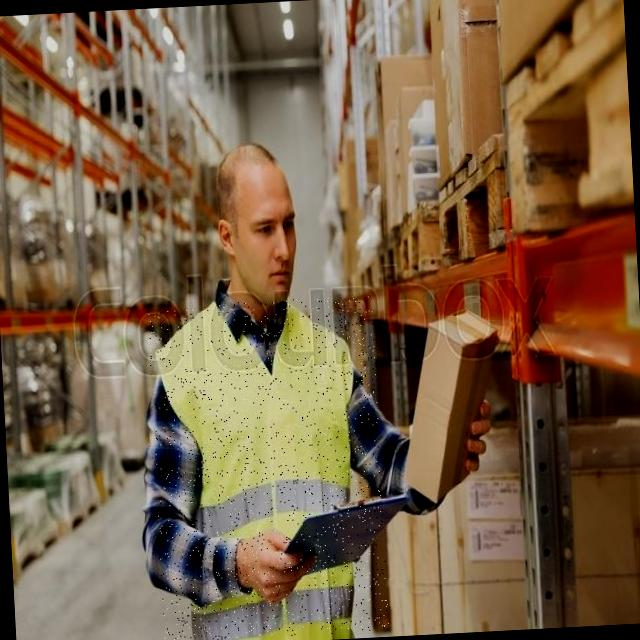vest: (147, 295, 389, 640)
